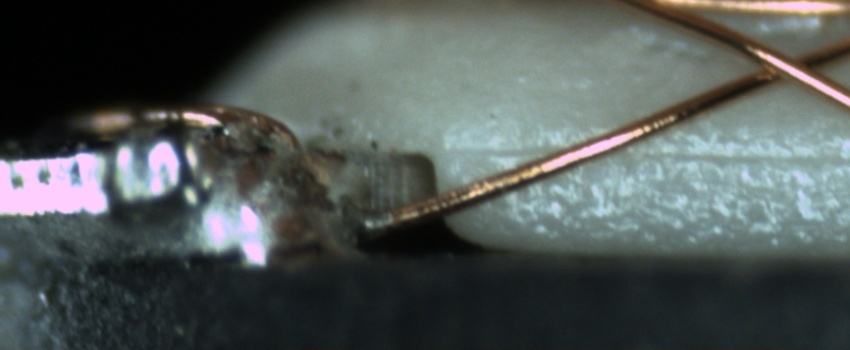CL: (741, 39, 838, 91)
DL: (447, 127, 850, 183)
TE: (67, 93, 309, 149)
